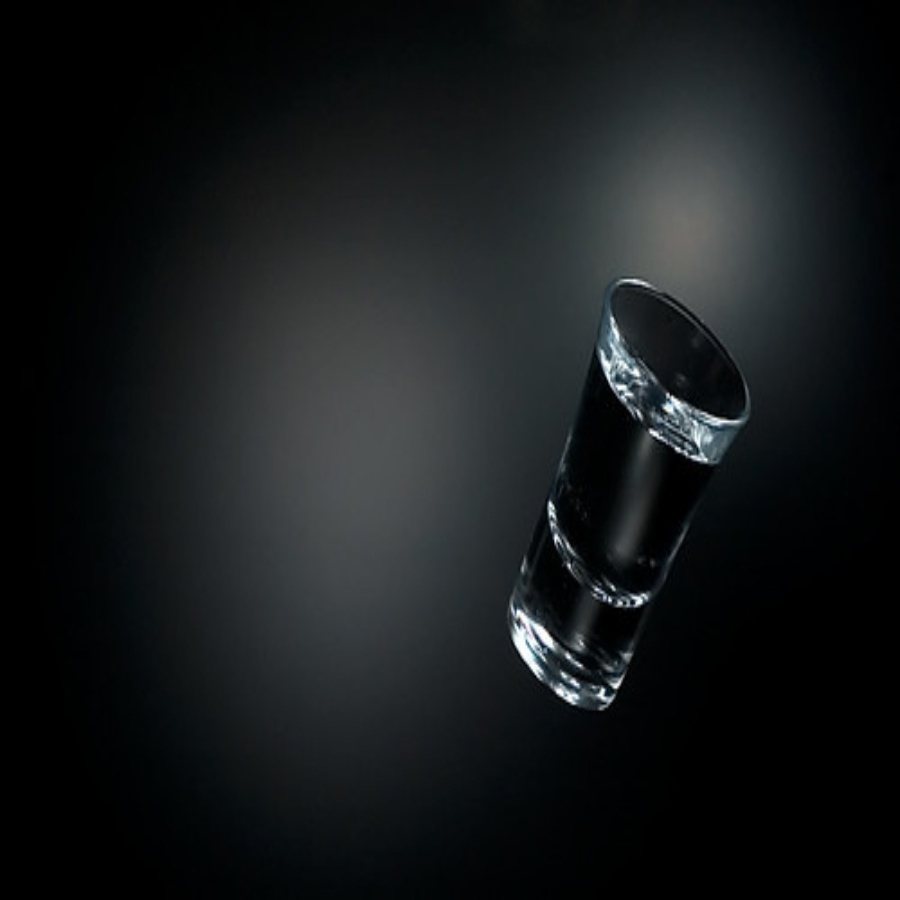whiskey: (500, 287, 739, 688)
